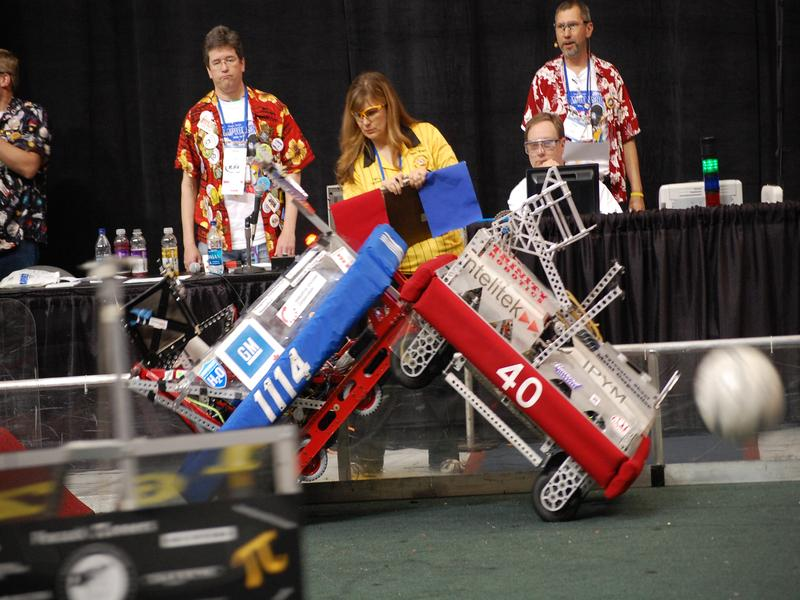robot: (411, 230, 656, 506), (135, 256, 403, 449)
